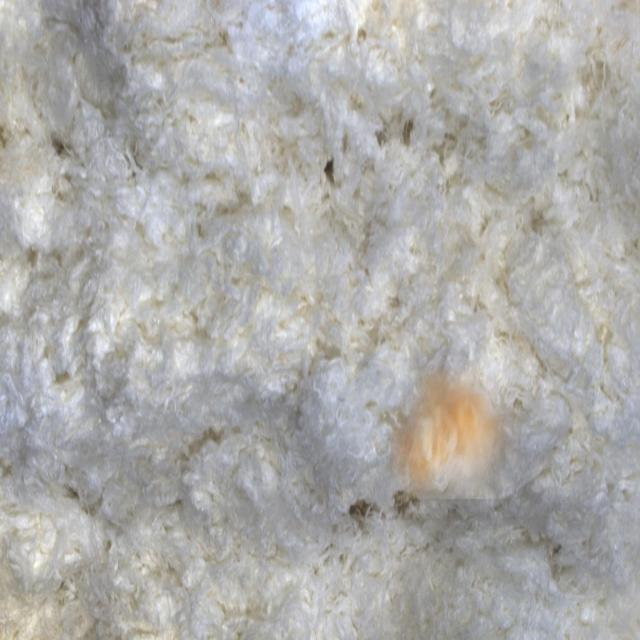dust: (387, 348, 523, 499)
